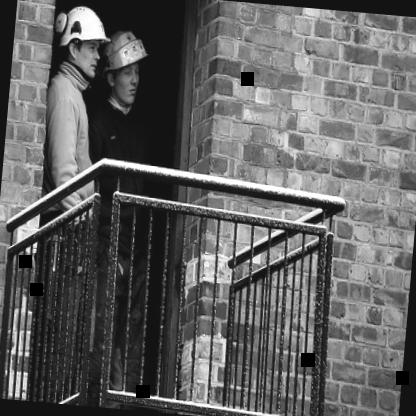helmet: (51, 0, 117, 90), (96, 17, 155, 116)
